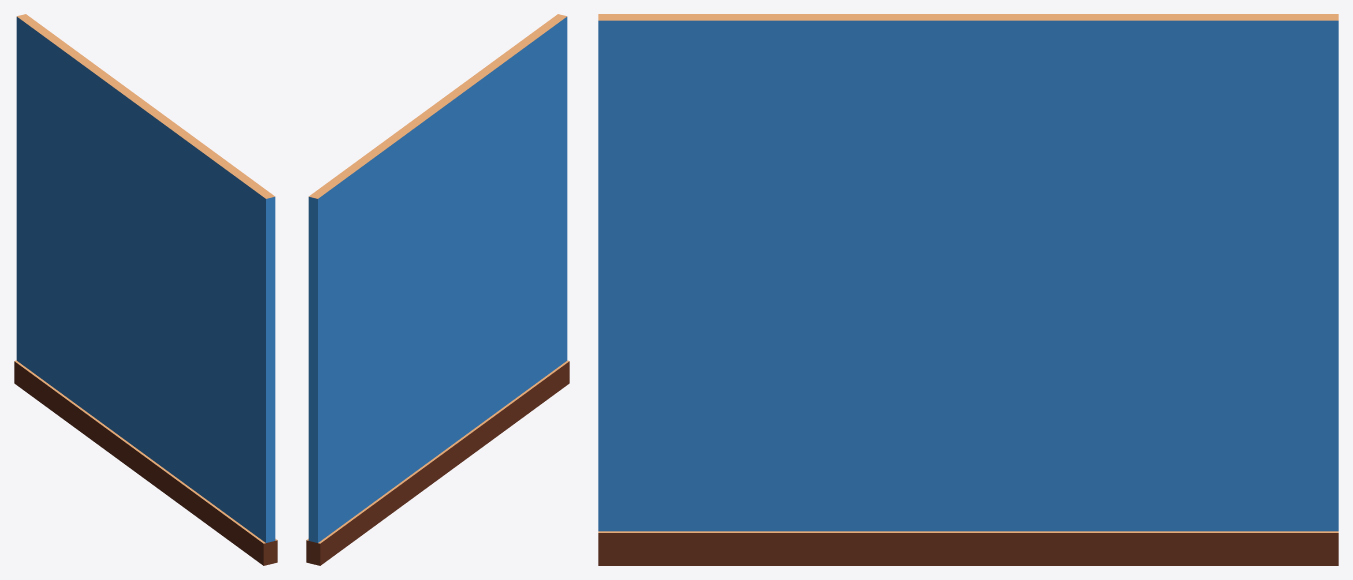
Rendered from wall_2_asset.dae.
3 renders of one model, left to right at view 1: azimuth 30°, elevation 25°; view 2: azimuth 150°, elevation 25°; view 3: azimuth 270°, elevation 25°, orthographic. The views are drawn at different scales.
Parts seen in each view (by area): view 1: wall_2.002; view 2: wall_2.002; view 3: wall_2.002.
Boxes of the visible parts, x1,y1,x2,y2 form: wall_2.002: [14, 14, 277, 565]; wall_2.002: [306, 14, 569, 565]; wall_2.002: [598, 14, 1338, 565].
Bounding box in the file's own units: 0.095 × 2.91 × 2.36.
